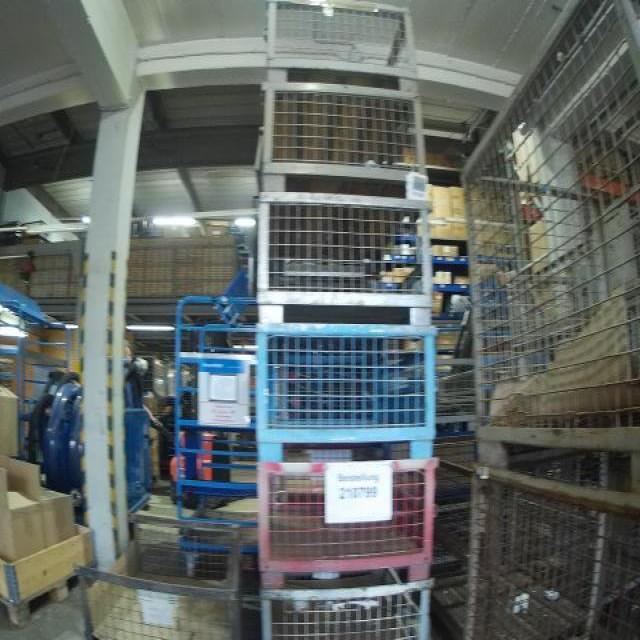pallet: (0, 561, 92, 630)
pallet_truck: (174, 420, 228, 497)
stillage: (457, 1, 640, 471), (460, 458, 638, 640), (250, 320, 441, 459), (250, 456, 443, 586), (73, 506, 252, 638), (250, 198, 431, 325), (253, 74, 428, 192), (255, 3, 426, 93), (389, 488, 485, 613), (259, 572, 437, 638), (373, 352, 489, 431)
